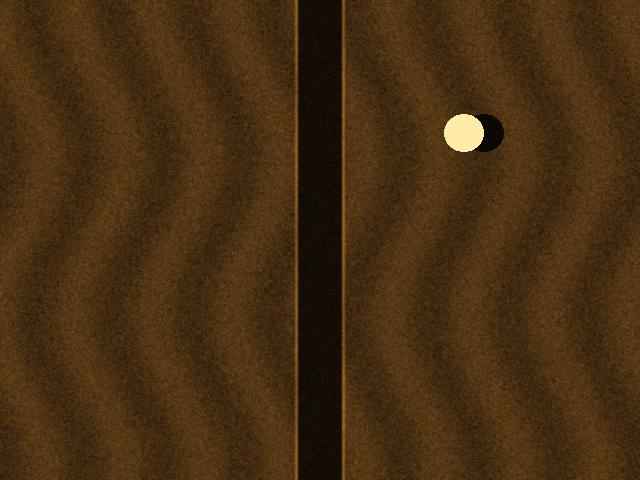Glass Debris: (444, 114, 483, 151)
